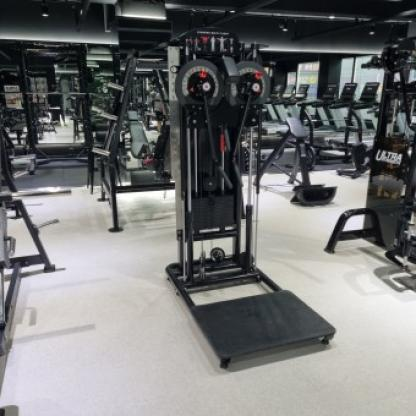lateral raises machine: (173, 58, 280, 371)
